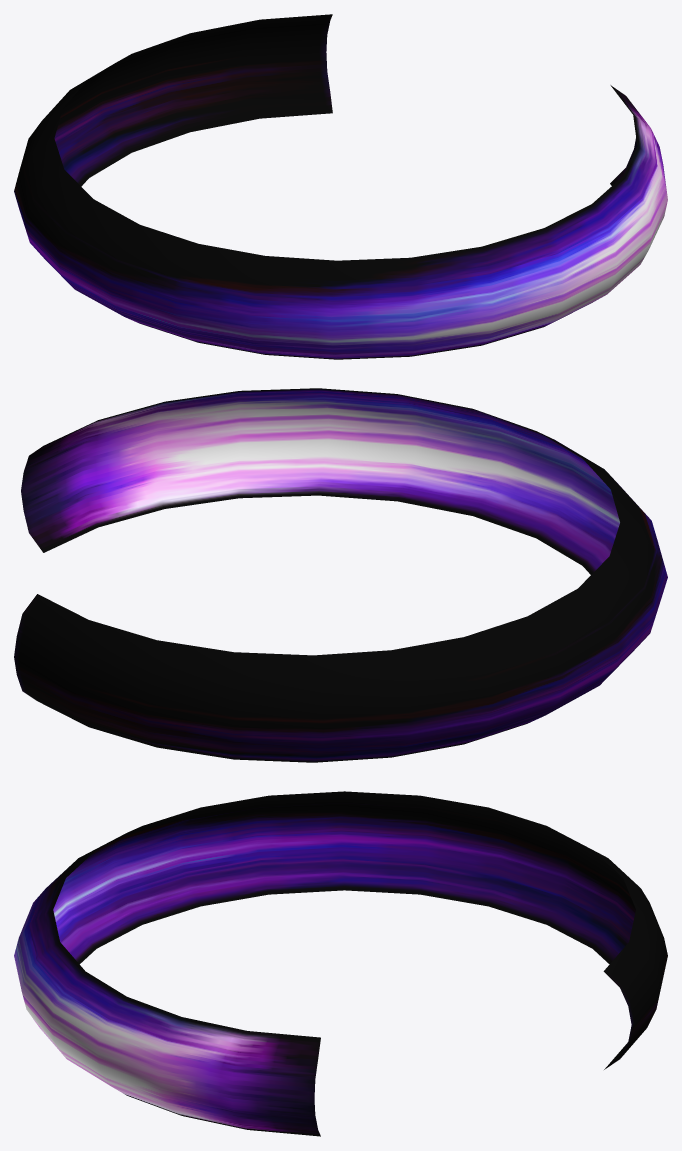
File: daohuan_2_kuan.FBX
3 views of the same model, one above another, from view 1: azimuth 30°, elevation 25°; view 2: azimuth 150°, elevation 25°; view 3: azimuth 270°, elevation 25° (orthographic). The views are drawn at different scales.
Visible parts, largest first — view 1: daohuan_1_kuan; view 2: daohuan_1_kuan; view 3: daohuan_1_kuan.
Boxes of the visible parts, x1,y1,x2,y2 form: daohuan_1_kuan: (14,14,667,359); daohuan_1_kuan: (14,388,667,762); daohuan_1_kuan: (14,791,667,1136).
Size of the model in its own units: 3246 by 543 by 3249.
